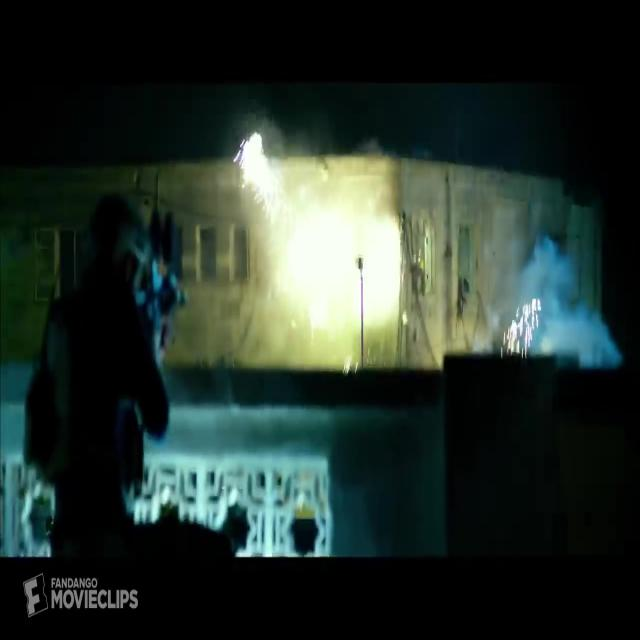Weapon: (138, 215, 210, 373)
